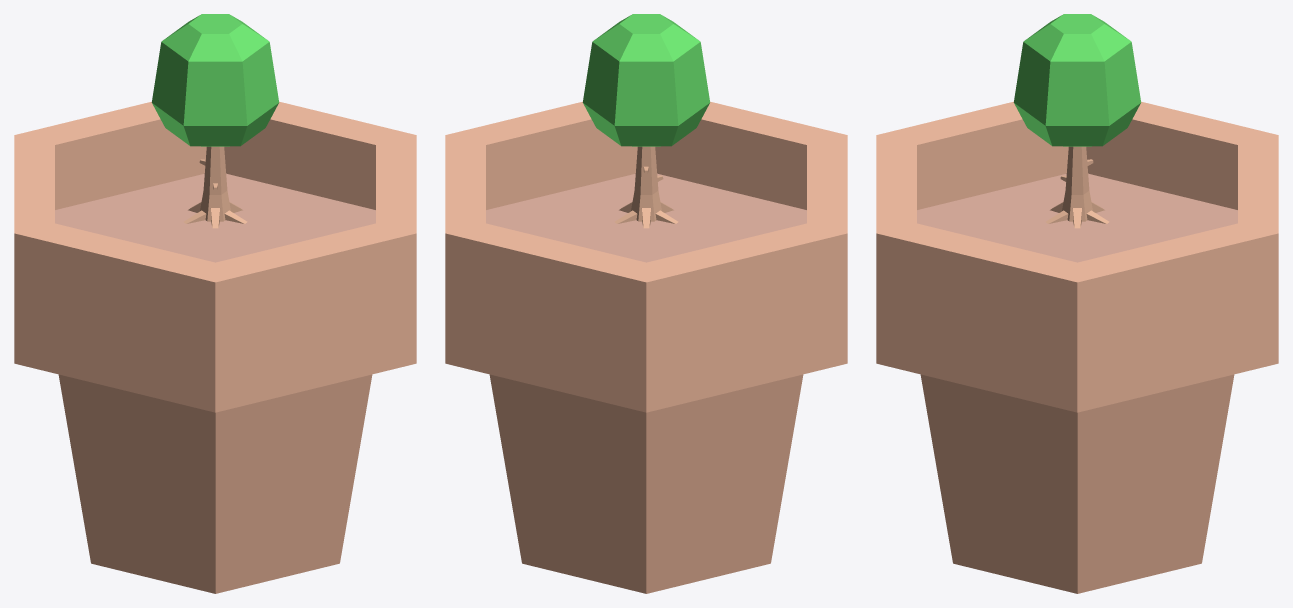
File: plant_bonsai.glb
The picture shows the model from 3 angles, left to right: view 1: azimuth 30°, elevation 25°; view 2: azimuth 150°, elevation 25°; view 3: azimuth 270°, elevation 25°; orthographic projection.
Parts seen in each view (by area): view 1: pot_small, tree_oak; view 2: pot_small, tree_oak; view 3: pot_small, tree_oak.
Part boxes in pixels (x1,y1,x2,y2): pot_small: (14,101,416,593); tree_oak: (151,14,279,228); pot_small: (445,101,847,593); tree_oak: (582,14,710,228); pot_small: (876,101,1278,593); tree_oak: (1013,14,1141,228).
Size of the model in its own units: 0.3721 by 0.45 by 0.3223.
